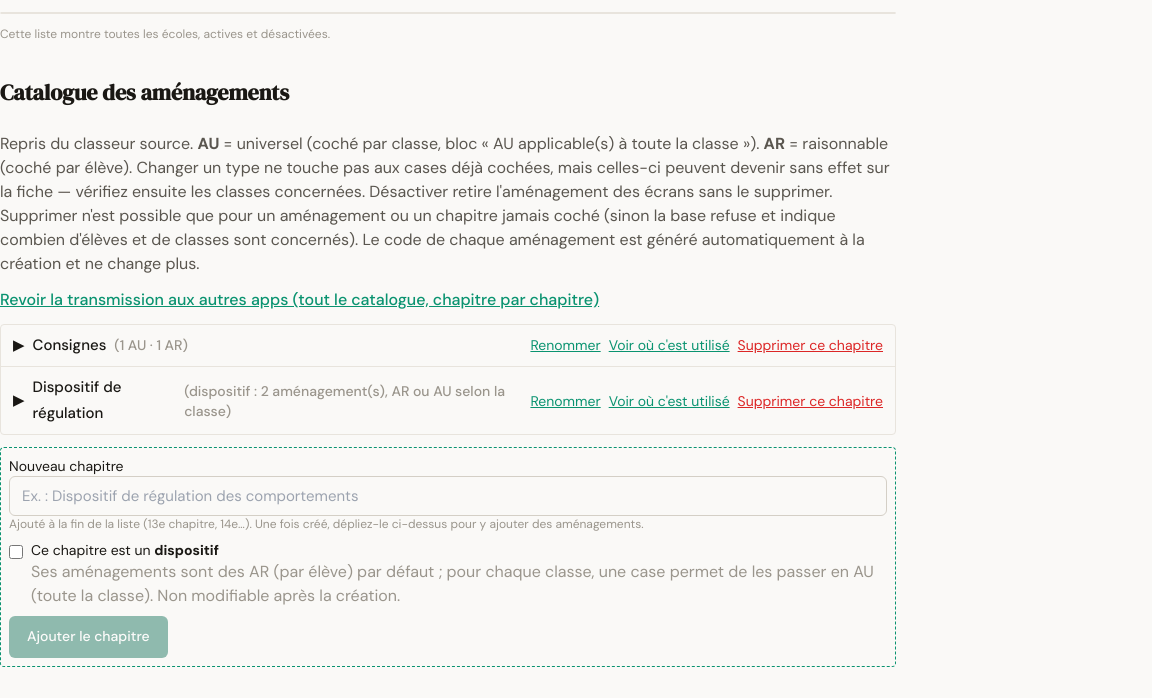
Test: Administration : où un aménagement est utilisé › ouvre une fenêtre avec implantation, référents, classe et élèves ; Fermer la ferme
(page scrolled)
Click the button "▶ Consignes (1 AU · 1 AR)".
click(69, 345)  # box [1,325,522,366]
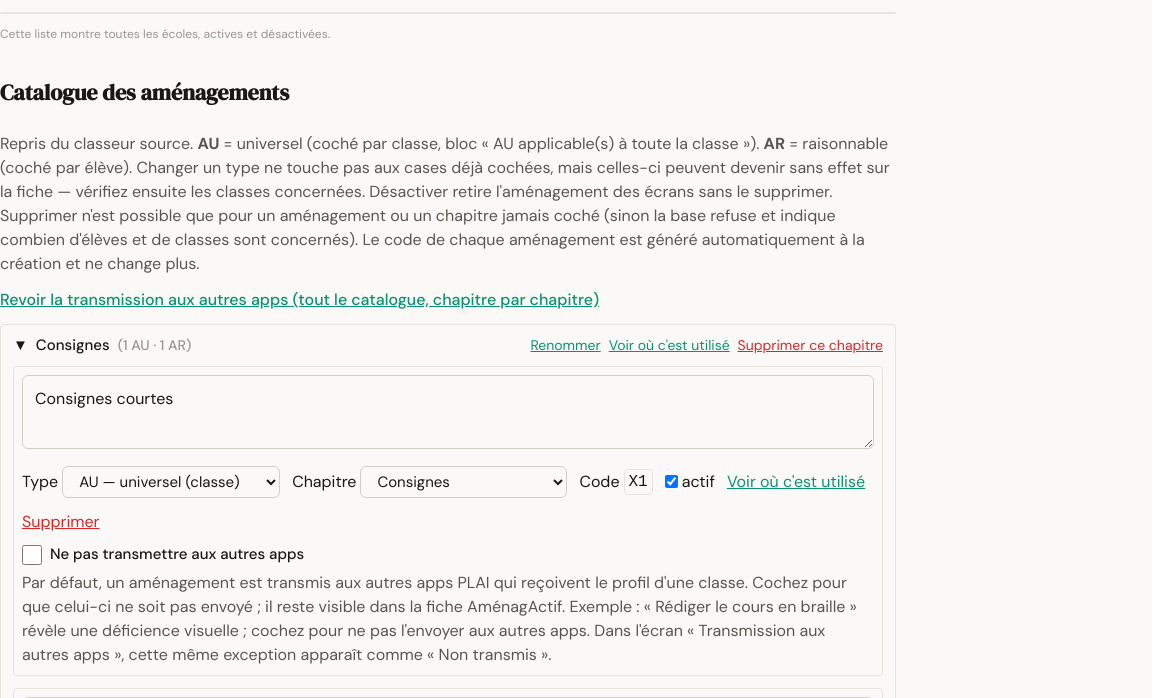
Click the 1st button "Voir où c'est utilisé".
click(669, 345)  # box [609,335,730,355]
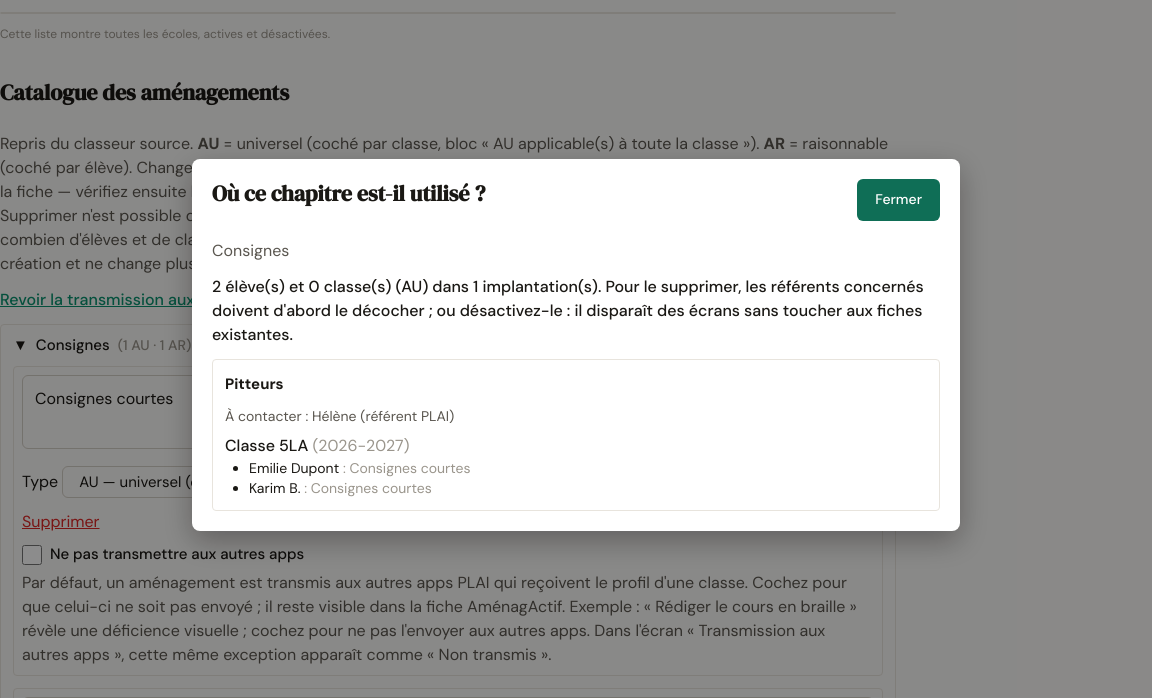
Check: the heading "Pitteurs" is shown, box [225,374,284,394]
Check: the text "À contacter : Hélène (référent PLAI)" is shown, box [225,407,454,425]
Check: the text "Classe 5LA (2026-2027)" is shown, box [225,435,409,456]
Click the button "Fermer".
click(899, 200)  # box [857,179,940,221]
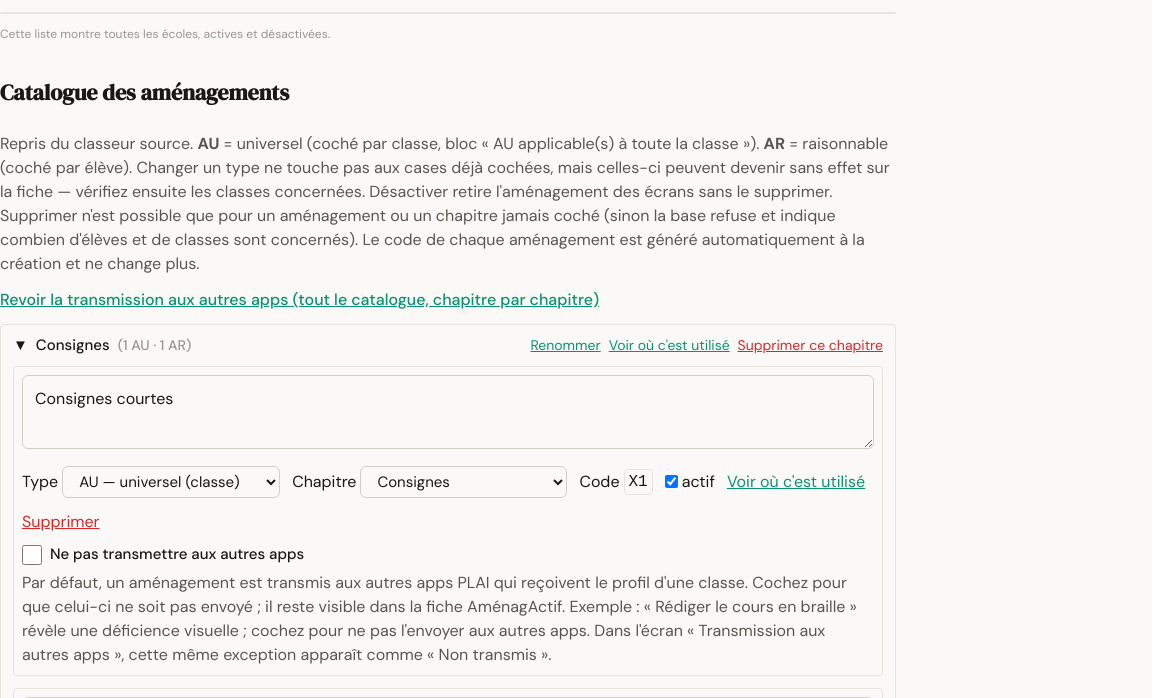
Check: the dialog is gone
